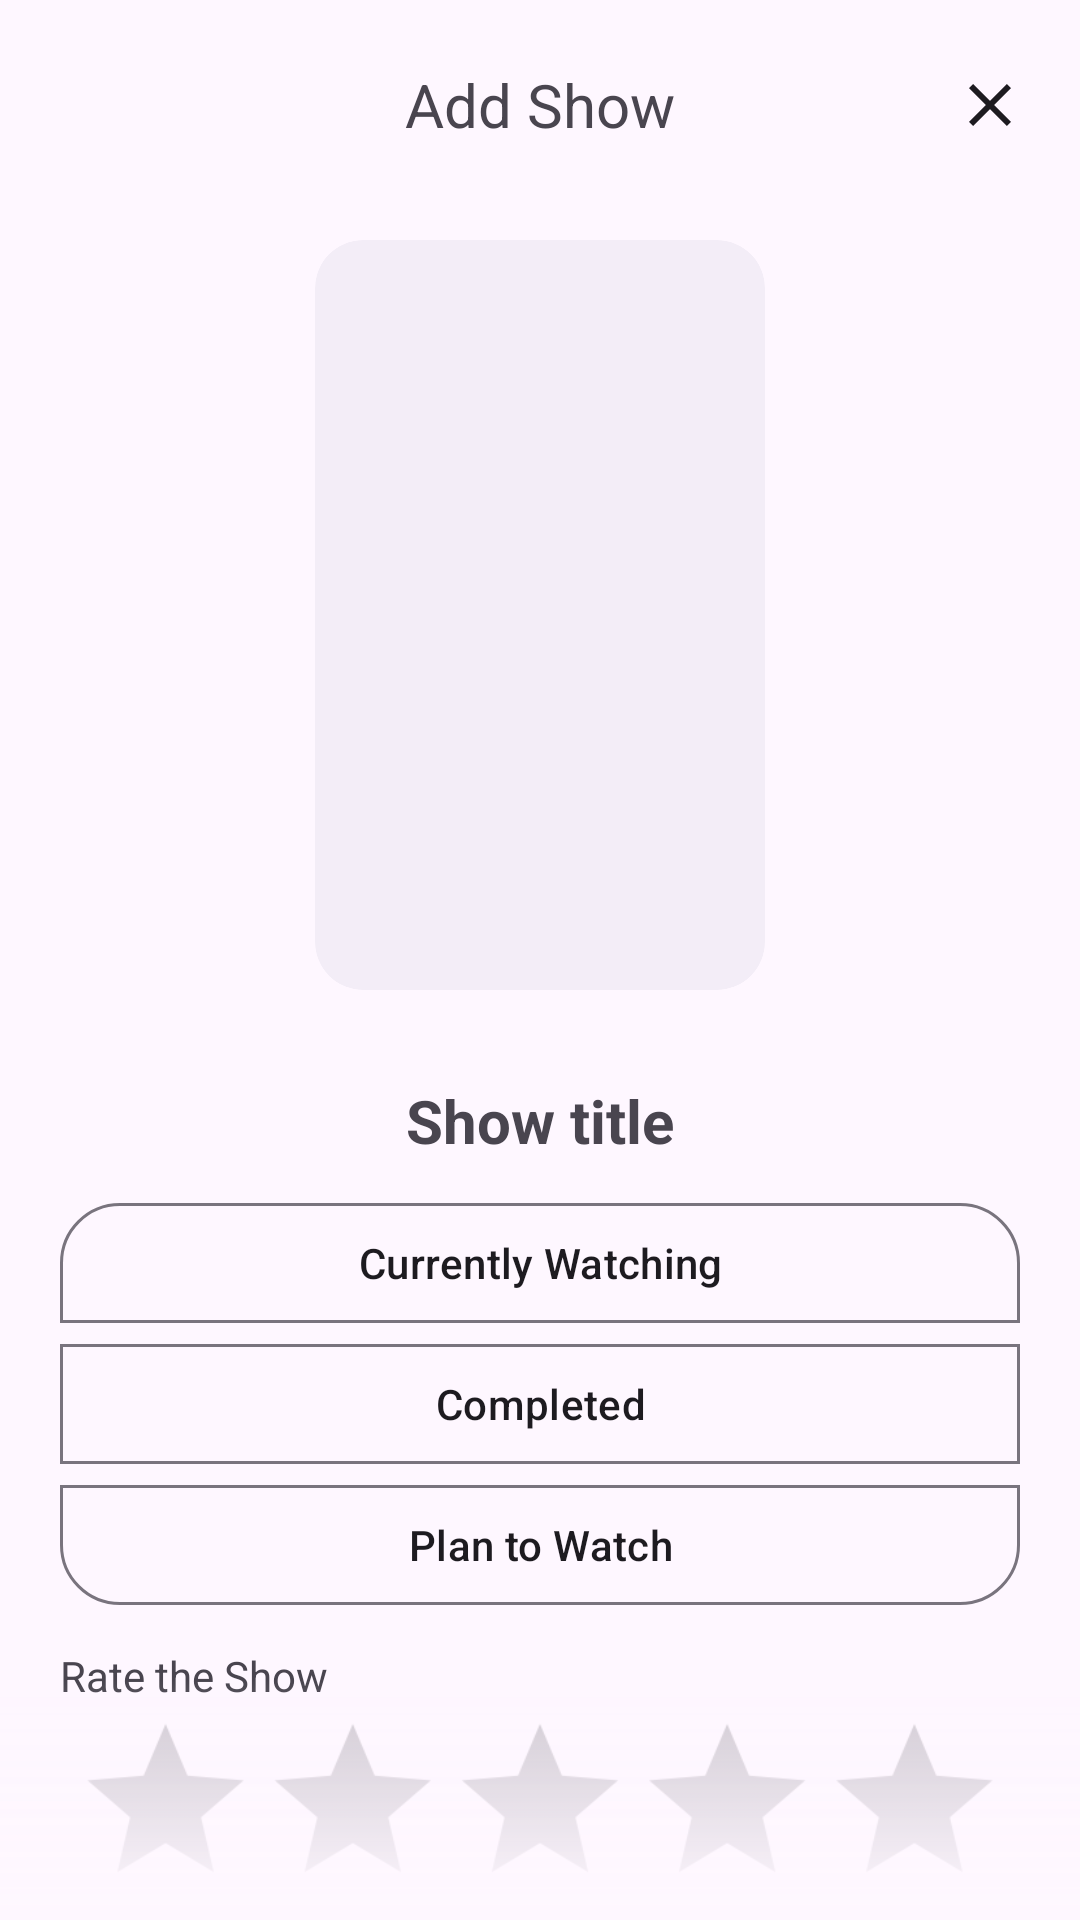

Where icons sit on this 1080 x 1920 app screen, as (x1, y1, x2, y2):
Close: (969, 84, 1011, 126)
